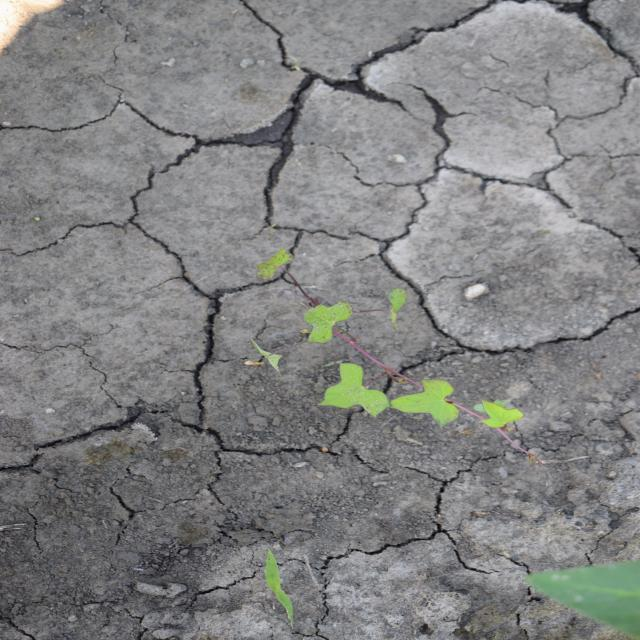MorningGlory: (248, 249, 545, 467)
